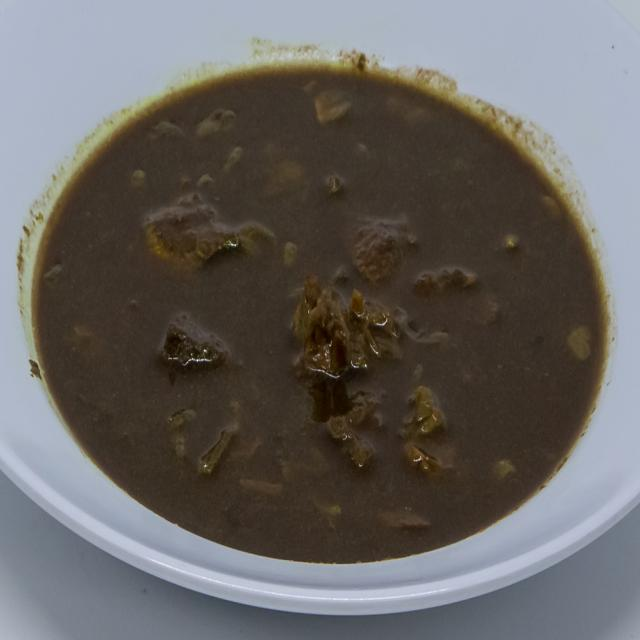Rawon-Surabaya: (26, 32, 620, 582)
